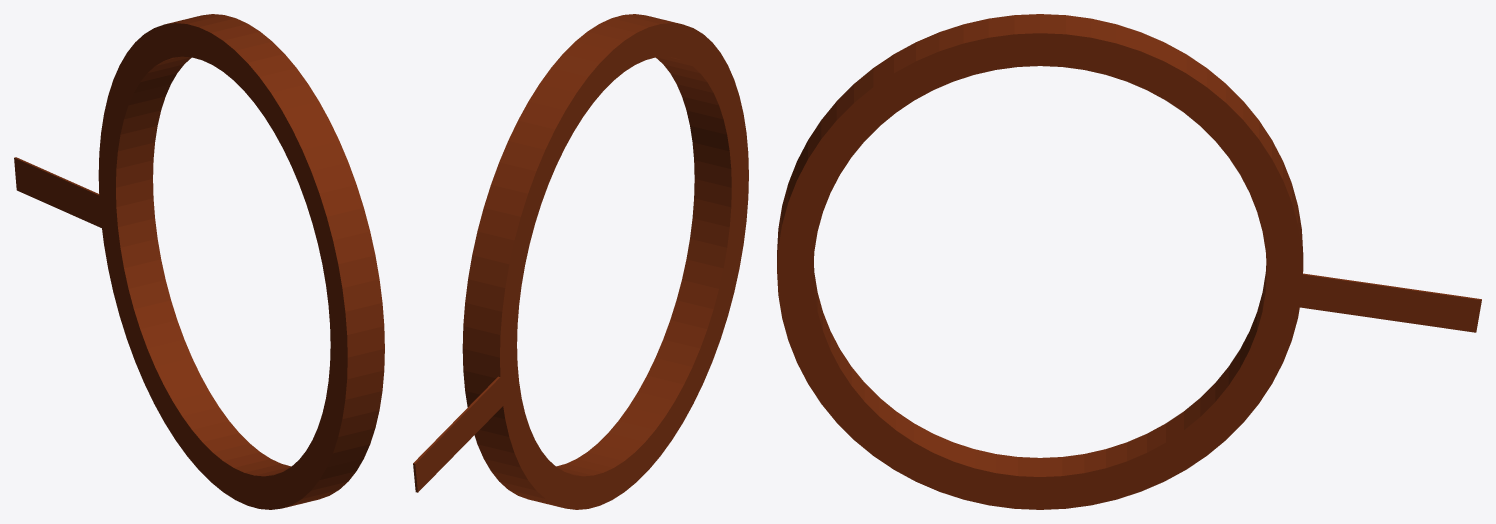
The model's file is fault_fretting.glb.
3 renders of one model, left to right at view 1: azimuth 30°, elevation 25°; view 2: azimuth 150°, elevation 25°; view 3: azimuth 270°, elevation 25°, orthographic. The views are drawn at different scales.
Visible parts, largest first — view 1: fault_fretting; view 2: fault_fretting; view 3: fault_fretting.
Part boxes in pixels (x1=…): fault_fretting: x1=14, y1=14, x2=384, y2=509; fault_fretting: x1=413, y1=14, x2=748, y2=509; fault_fretting: x1=777, y1=14, x2=1481, y2=509.
Bounding box in the file's own units: 0.05 × 0.58 × 0.7771.
